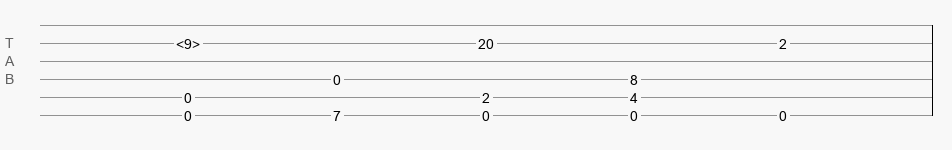0: (184, 90, 192, 100), (184, 108, 192, 118), (333, 72, 341, 82), (482, 108, 490, 118), (630, 108, 638, 118), (779, 108, 787, 118)
2: (482, 90, 490, 100), (779, 36, 787, 46)
20: (478, 36, 494, 46)
4: (630, 90, 638, 100)
7: (333, 108, 341, 118)
8: (630, 72, 638, 82)
harmonic: (176, 36, 200, 46)
